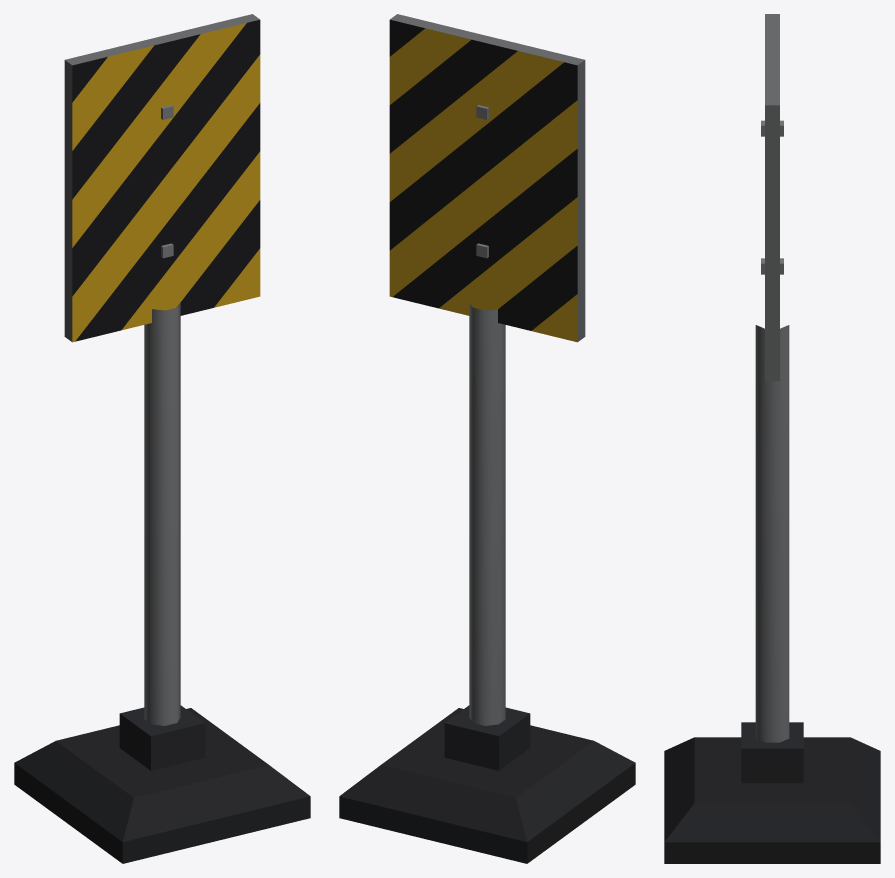
File: sign.warning.striped.glb
3 views of the same model, side by side, from view 1: azimuth 30°, elevation 25°; view 2: azimuth 150°, elevation 25°; view 3: azimuth 270°, elevation 25° (orthographic).
Visible parts, largest first — view 1: sign_warning_striped; view 2: sign_warning_striped; view 3: sign_warning_striped.
Part boxes in pixels (<box>): sign_warning_striped: <box>14,14,310,863</box>; sign_warning_striped: <box>339,14,635,863</box>; sign_warning_striped: <box>664,14,880,863</box>.
Size of what is drawn, in the model's own units: 0.284 by 1.1 by 0.284.
